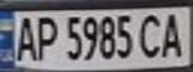5: (115, 11, 139, 60), (60, 12, 81, 61)
8: (97, 12, 118, 61)
9: (78, 12, 100, 61)
A: (157, 9, 187, 60), (12, 12, 39, 62)
C: (136, 10, 166, 60)
P: (33, 12, 60, 62)
